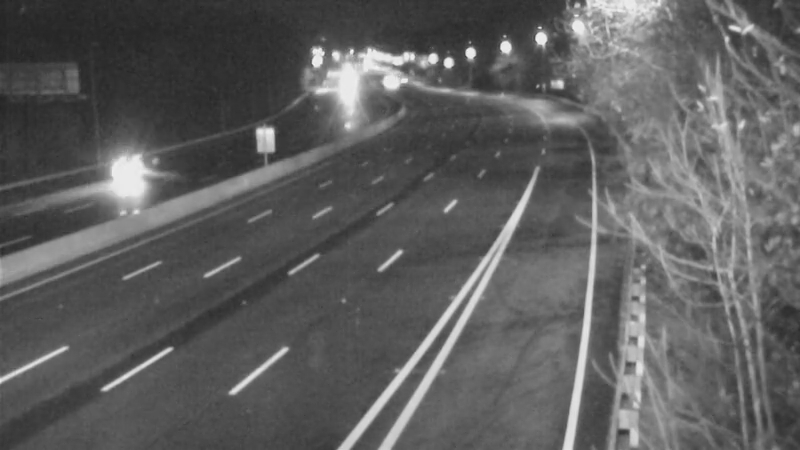vehicle: (89, 125, 169, 205)
